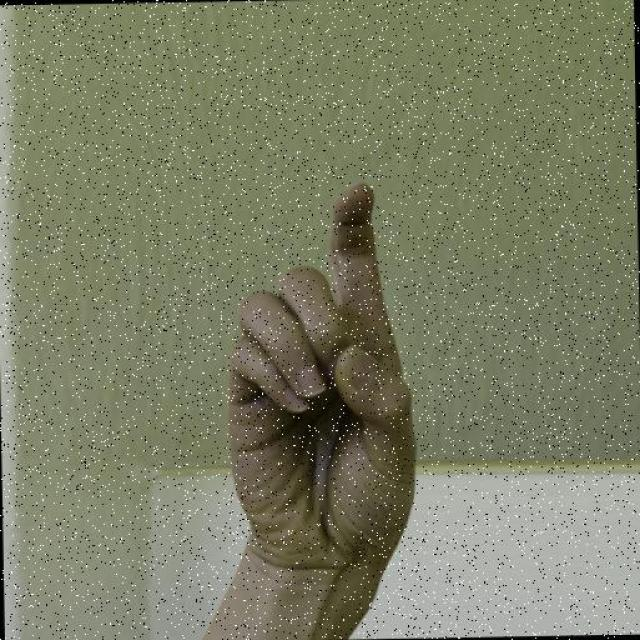X: (213, 178, 422, 632)
